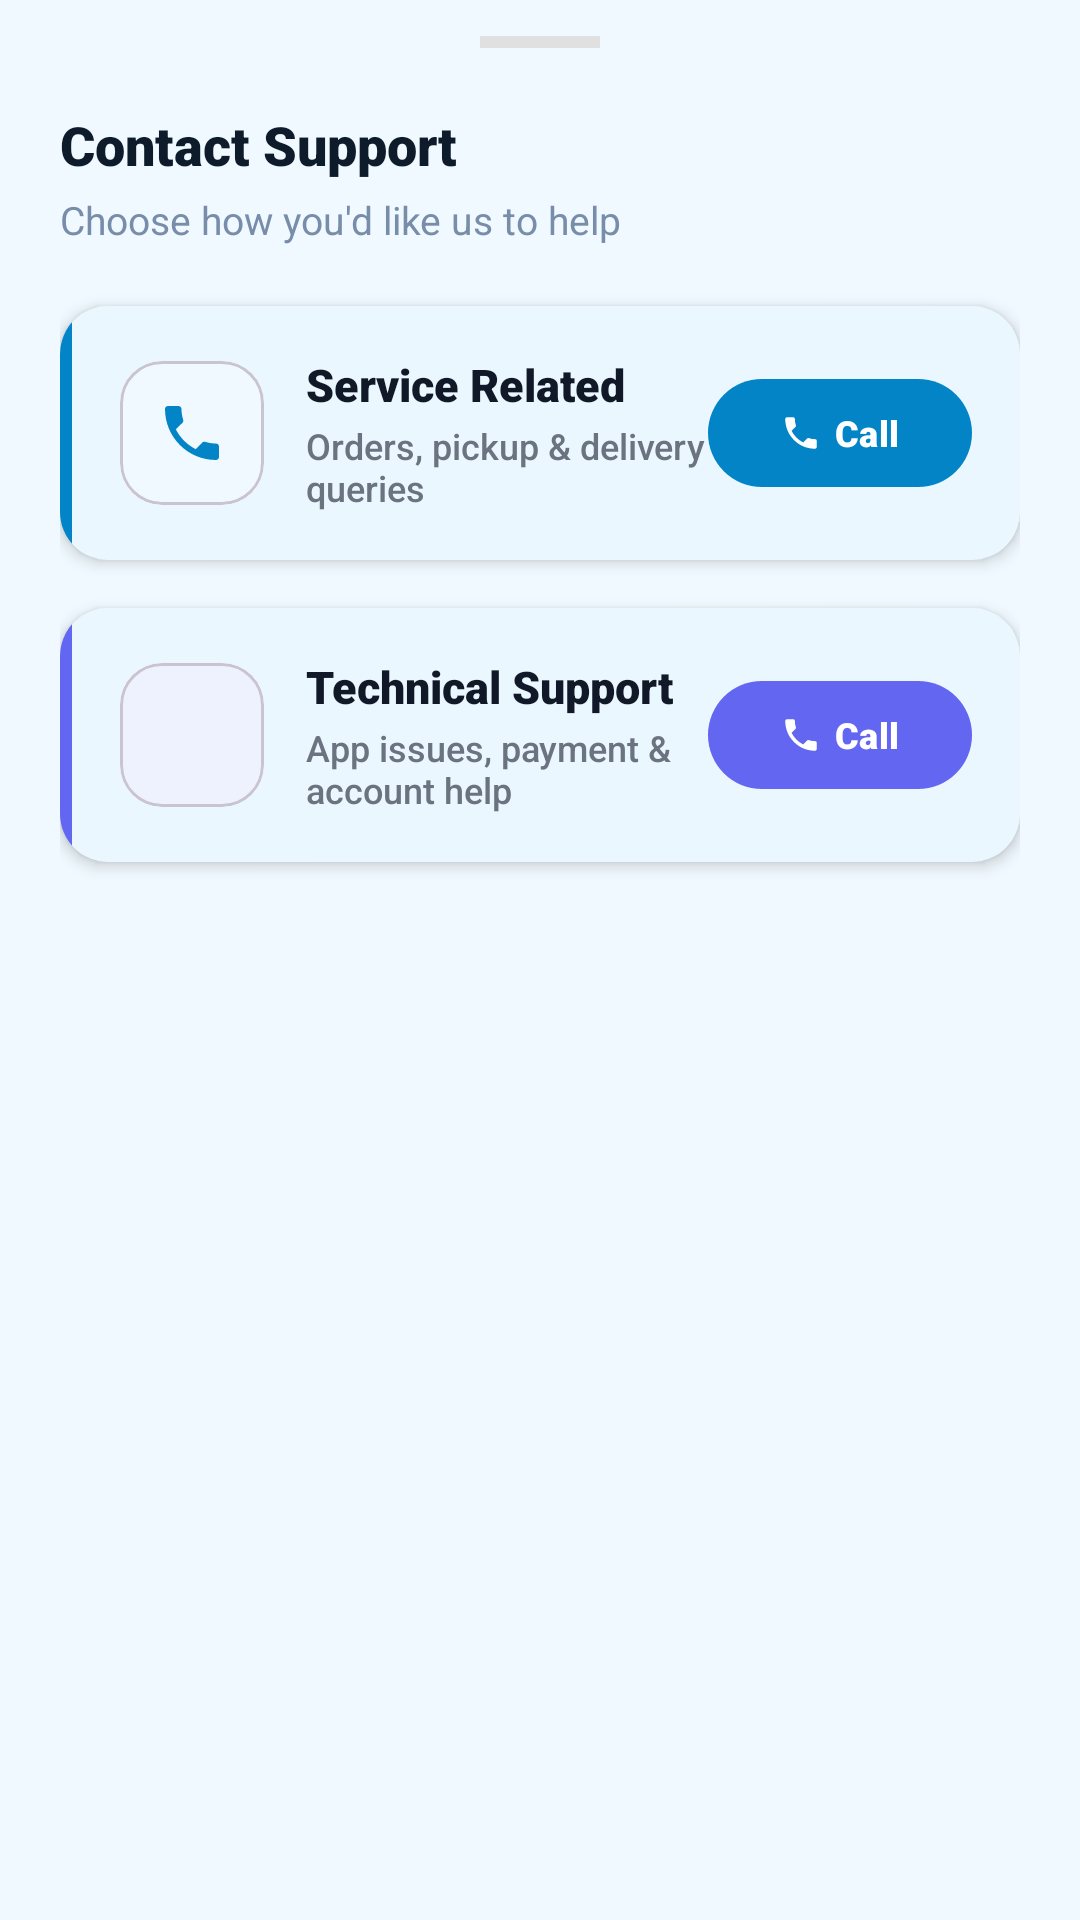

Point at icon controls on the screen. Image size 1080px x 1920px, points as [x,y].
phone call: [192,433]
